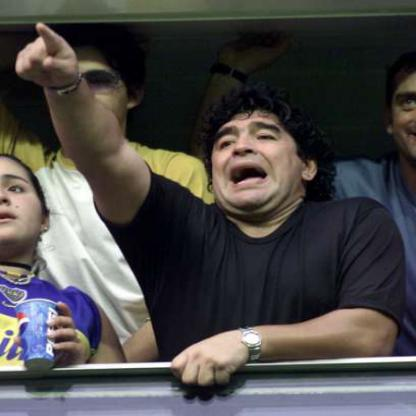face: (206, 97, 307, 217), (48, 34, 131, 147), (1, 157, 45, 256)
